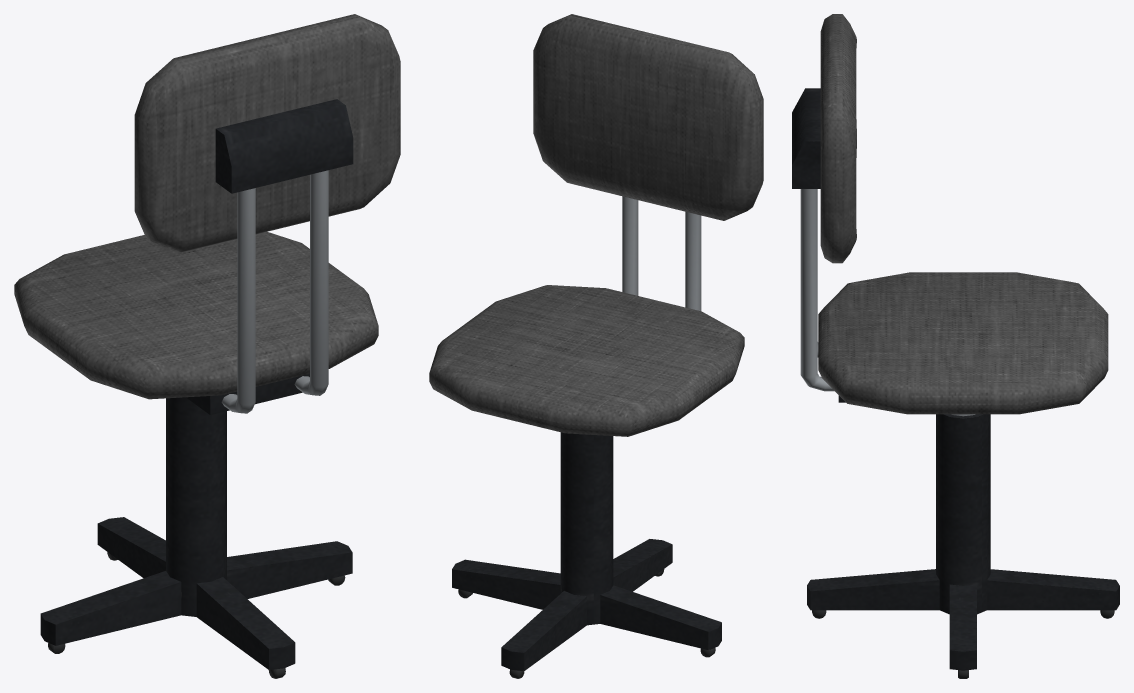
The model's file is ChairOffice.fbx.
3 renders of one model, left to right at view 1: azimuth 30°, elevation 25°; view 2: azimuth 150°, elevation 25°; view 3: azimuth 270°, elevation 25°, orthographic. The views are drawn at different scales.
Parts seen in each view (by area): view 1: ChairOffice; view 2: ChairOffice; view 3: ChairOffice.
Part boxes in pixels (bbox=[...]): ChairOffice: bbox=[14, 14, 400, 678]; ChairOffice: bbox=[429, 14, 763, 678]; ChairOffice: bbox=[792, 14, 1119, 678].
Bounding box in the file's own units: 0.5038 × 1 × 0.5275.
